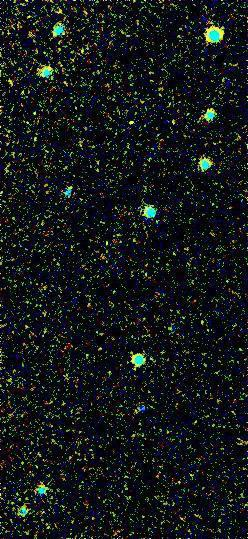star: (111, 100, 141, 130)
